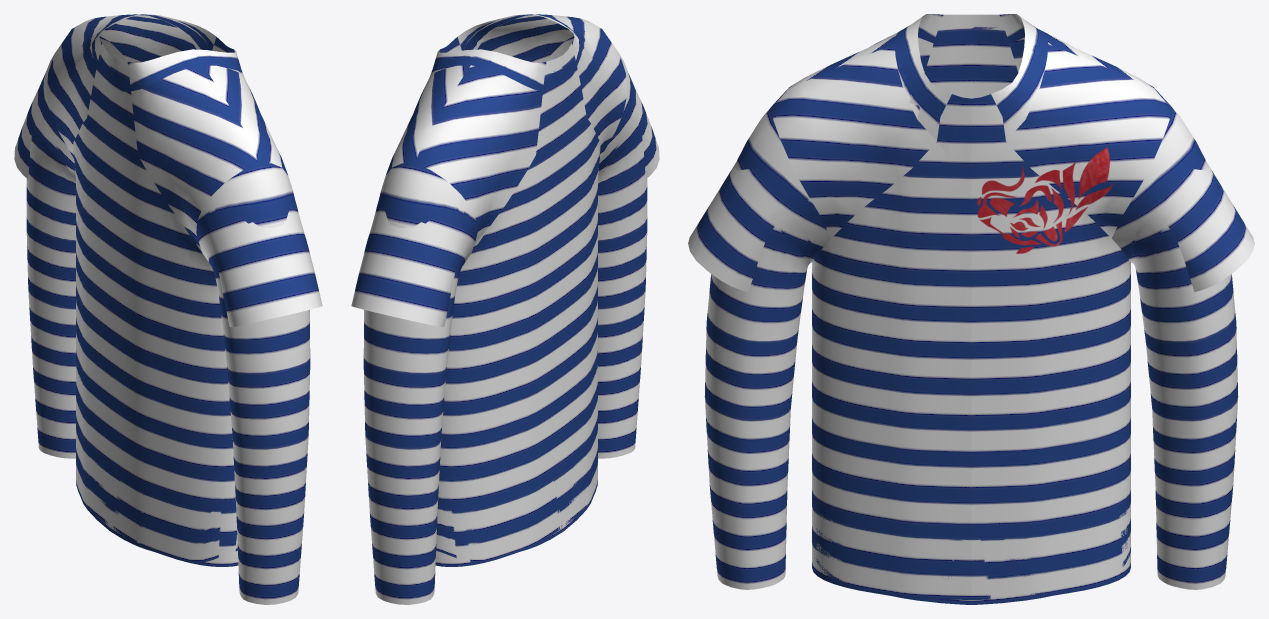
The model's file is telnajka.gltf.
The picture shows the model from 3 angles, left to right: view 1: azimuth 30°, elevation 25°; view 2: azimuth 150°, elevation 25°; view 3: azimuth 270°, elevation 25°; orthographic projection. The views are drawn at different scales.
Visible parts, largest first — view 1: Long, tshirt_s, shoulders_0, short, d_s, tshirt_f, d_f, c, v; view 2: Long, tshirt_s, shoulders_0, short, tshirt_f, d_s, d_f, c, v; view 3: tshirt_s, Long, shoulders_0, d_s, tshirt_f, short, d_f, c, v, Print.
Boxes of the visible parts, x1,y1,x2,y2 form: Long: (26, 54, 310, 604); tshirt_s: (76, 174, 235, 495); shoulders_0: (46, 14, 287, 251); short: (14, 36, 322, 327); d_s: (76, 412, 238, 566); tshirt_f: (73, 67, 202, 269); d_f: (78, 423, 237, 563); c: (92, 14, 244, 91); v: (96, 14, 243, 76); Long: (363, 54, 647, 604); tshirt_s: (438, 174, 597, 495); shoulders_0: (386, 14, 627, 251); short: (351, 36, 659, 327); tshirt_f: (471, 67, 600, 269); d_s: (435, 412, 597, 566); d_f: (436, 424, 595, 563); c: (429, 14, 581, 91); v: (457, 14, 573, 91); tshirt_s: (812, 232, 1130, 520); Long: (704, 105, 1238, 589); shoulders_0: (771, 32, 1171, 237); d_s: (812, 490, 1130, 599); tshirt_f: (831, 43, 1111, 256); short: (688, 164, 1254, 291); d_f: (812, 489, 1130, 604); c: (894, 14, 1047, 156); v: (894, 14, 1048, 177); Print: (977, 147, 1112, 253).
Size of the model in its own units: 0.8379 by 3.29 by 3.12.
3 materials, 3 textured.
